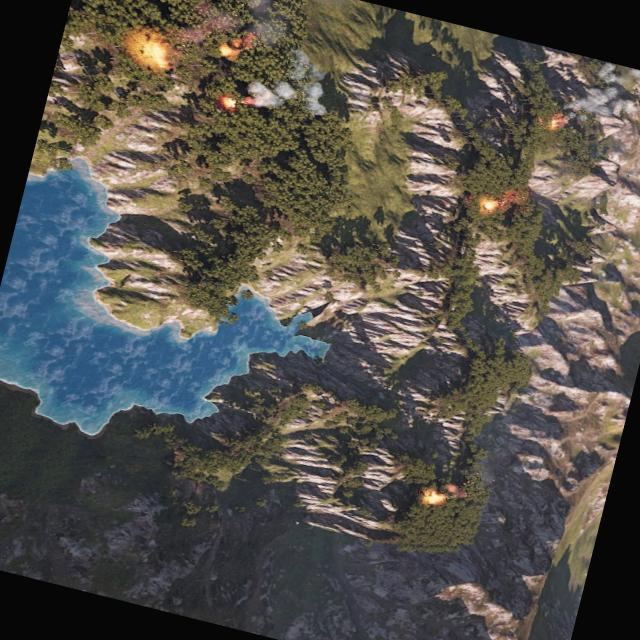fire: (136, 38, 174, 72), (421, 488, 444, 506), (216, 94, 238, 112), (476, 194, 496, 212), (479, 198, 496, 214)
smoke: (239, 38, 338, 123), (562, 54, 640, 128)
